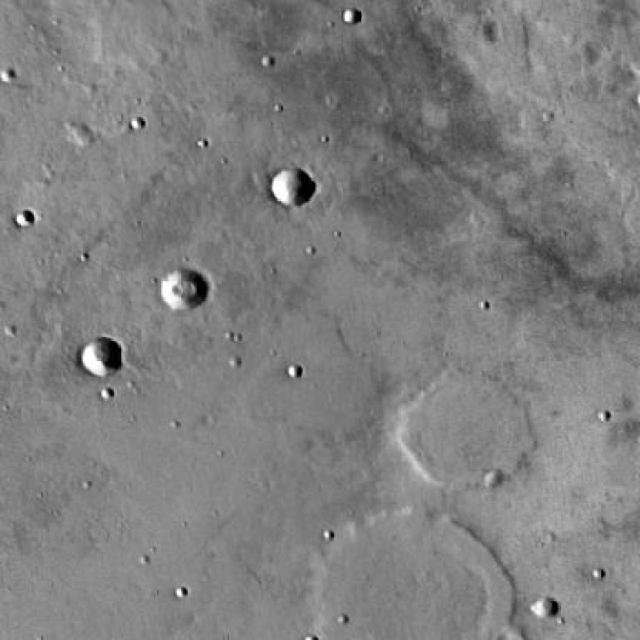crater: (294, 514, 504, 640), (391, 379, 522, 493), (147, 272, 196, 314), (256, 176, 302, 216), (64, 342, 108, 381), (517, 604, 546, 630), (331, 10, 351, 28), (472, 474, 492, 491), (34, 186, 52, 202), (629, 89, 640, 111)
